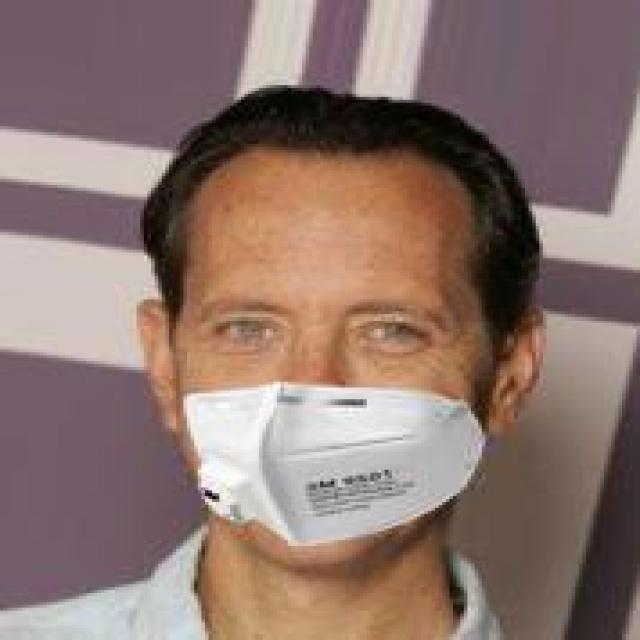mask: (176, 120, 557, 576)
